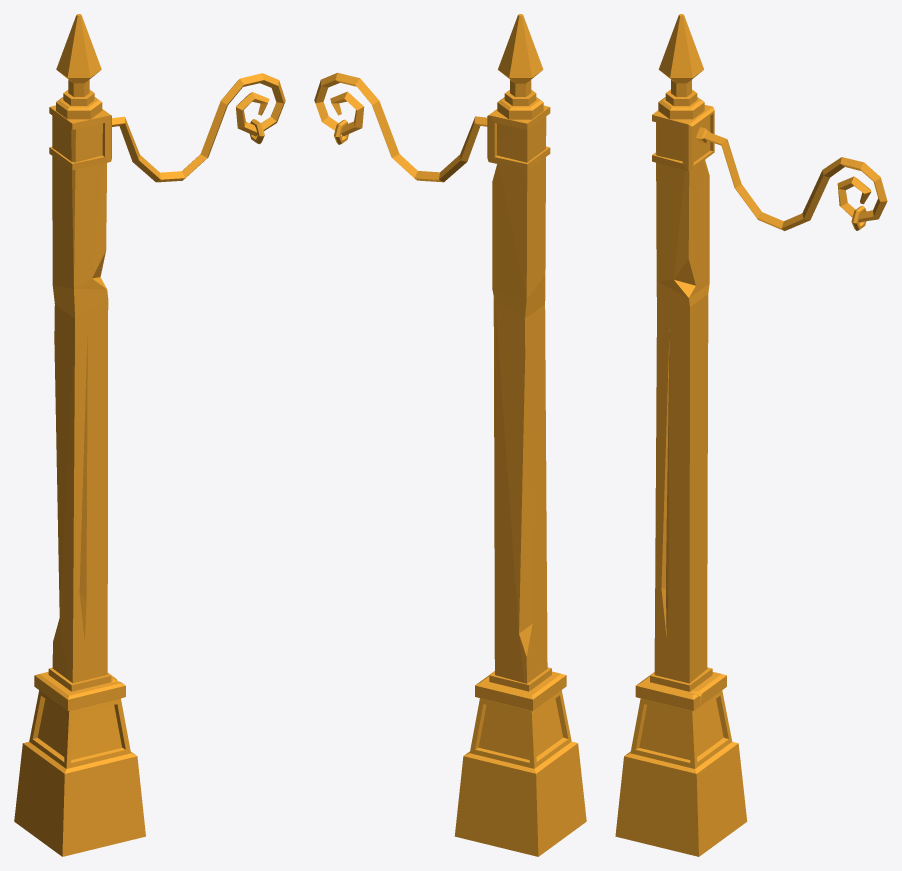
File: SM_Lamp_Street_D_Fantasy.fbx
3 renders of one model, left to right at view 1: azimuth 30°, elevation 25°; view 2: azimuth 150°, elevation 25°; view 3: azimuth 330°, elevation 25°, orthographic.
Parts seen in each view (by area): view 1: lamp-street-d-fantasy; view 2: lamp-street-d-fantasy; view 3: lamp-street-d-fantasy.
Boxes of the visible parts, box(x1,y1,x2,y2) form: lamp-street-d-fantasy: box(14, 14, 285, 856); lamp-street-d-fantasy: box(314, 14, 586, 856); lamp-street-d-fantasy: box(615, 14, 887, 856).
Bounding box in the file's own units: 1.41 × 4.42 × 0.4754.
